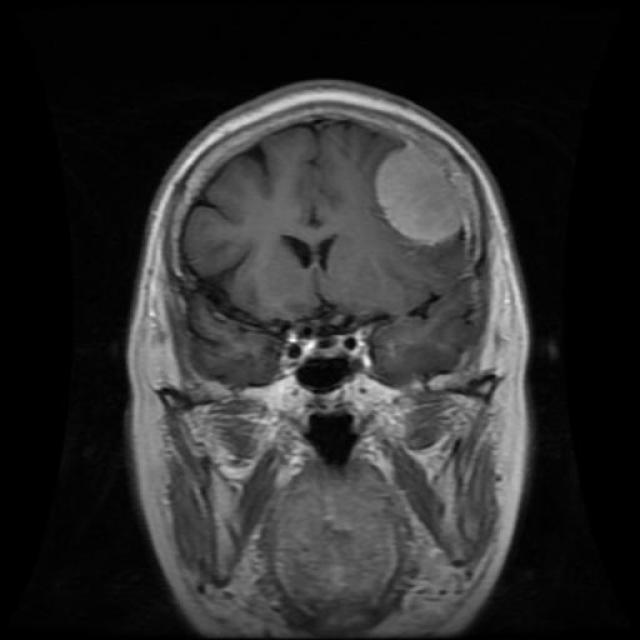meningioma: (375, 146, 461, 246)
